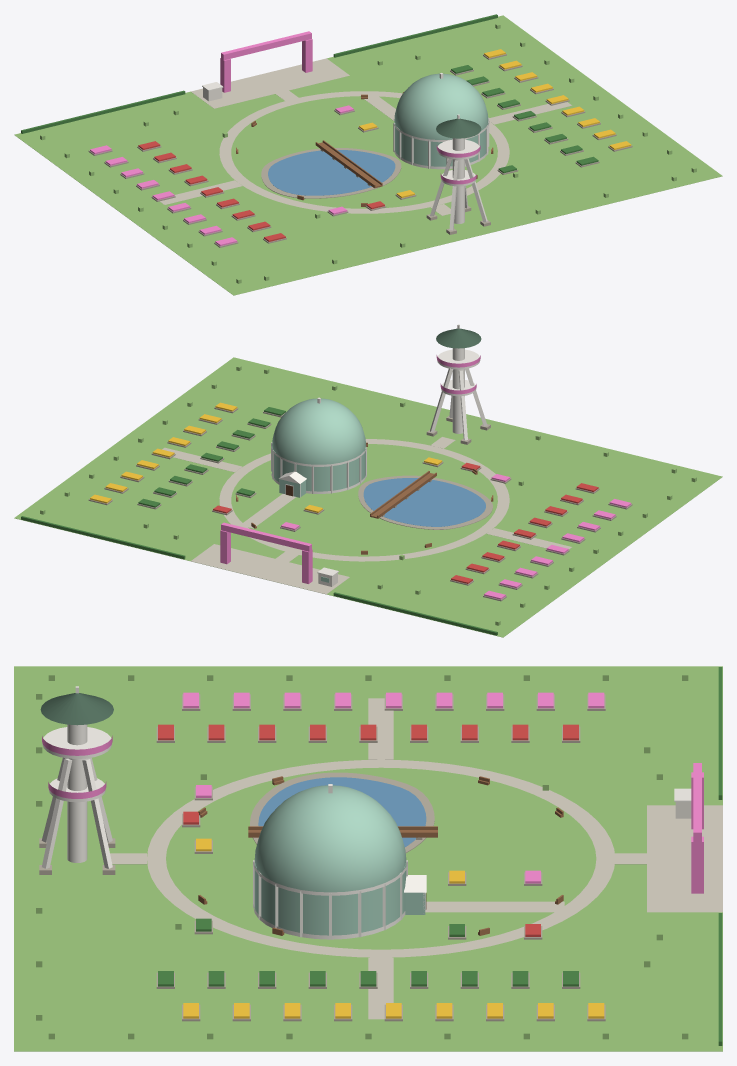
The model's file is gardenexpo.glb.
3 renders of one model, top to bottom at view 1: azimuth 30°, elevation 25°; view 2: azimuth 150°, elevation 25°; view 3: azimuth 270°, elevation 25°, orthographic. The views are drawn at different scales.
Visible parts, largest first — view 1: lawn, path (×3), pavilion_dome, lake, plaza, hedge (×2), pavilion_drum, lake_edge, gate_beam, tower_core, tower_roof, tower_deck; view 2: lawn, path (×4), pavilion_dome, lake, plaza, pavilion_drum, hedge (×2), lake_edge, gate_beam, tower_core, tower_roof; view 3: lawn, path (×4), pavilion_dome, plaza, pavilion_drum, lake, tower_core, tower_roof, tower_leg (×2), lake_edge, hedge (×2), tower_deck (+4 smaller).
Boxes of the visible parts, left/top/right/bottom form: lawn: left=14, top=15, right=722, bottom=295; path (×3): left=160, top=91, right=571, bottom=213; pavilion_dome: left=394, top=73, right=488, bottom=139; lake: left=268, top=150, right=395, bottom=195; plaza: left=191, top=58, right=349, bottom=108; hedge (×2): left=21, top=14, right=497, bottom=133; pavilion_drum: left=394, top=121, right=488, bottom=166; lake_edge: left=261, top=148, right=401, bottom=198; gate_beam: left=221, top=31, right=311, bottom=60; tower_core: left=452, top=138, right=464, bottom=223; tower_roof: left=436, top=118, right=481, bottom=138; tower_deck: left=437, top=139, right=480, bottom=159; lawn: left=14, top=357, right=722, bottom=637; path (×4): left=162, top=439, right=571, bottom=561; pavilion_dome: left=272, top=398, right=366, bottom=464; lake: left=363, top=478, right=485, bottom=526; plaza: left=191, top=544, right=349, bottom=594; pavilion_drum: left=272, top=446, right=365, bottom=491; hedge (×2): left=21, top=516, right=497, bottom=635; lake_edge: left=358, top=475, right=492, bottom=529; gate_beam: left=221, top=522, right=311, bottom=551; tower_core: left=452, top=348, right=464, bottom=433; tower_roof: left=436, top=328, right=481, bottom=348; lawn: left=14, top=666, right=722, bottom=1051; path (×4): left=147, top=698, right=615, bottom=1019; pavilion_dome: left=254, top=785, right=406, bottom=892; plaza: left=647, top=805, right=722, bottom=912; pavilion_drum: left=254, top=862, right=406, bottom=935; lake: left=258, top=777, right=426, bottom=847; tower_core: left=67, top=724, right=87, bottom=862; tower_roof: left=40, top=693, right=113, bottom=725; tower_leg (×2): left=42, top=758, right=112, bottom=868; lake_edge: left=250, top=772, right=434, bottom=852; hedge (×2): left=718, top=667, right=722, bottom=1045; tower_deck: left=42, top=727, right=111, bottom=758.
Bounding box in the file's own units: 144 × 30 × 112.
